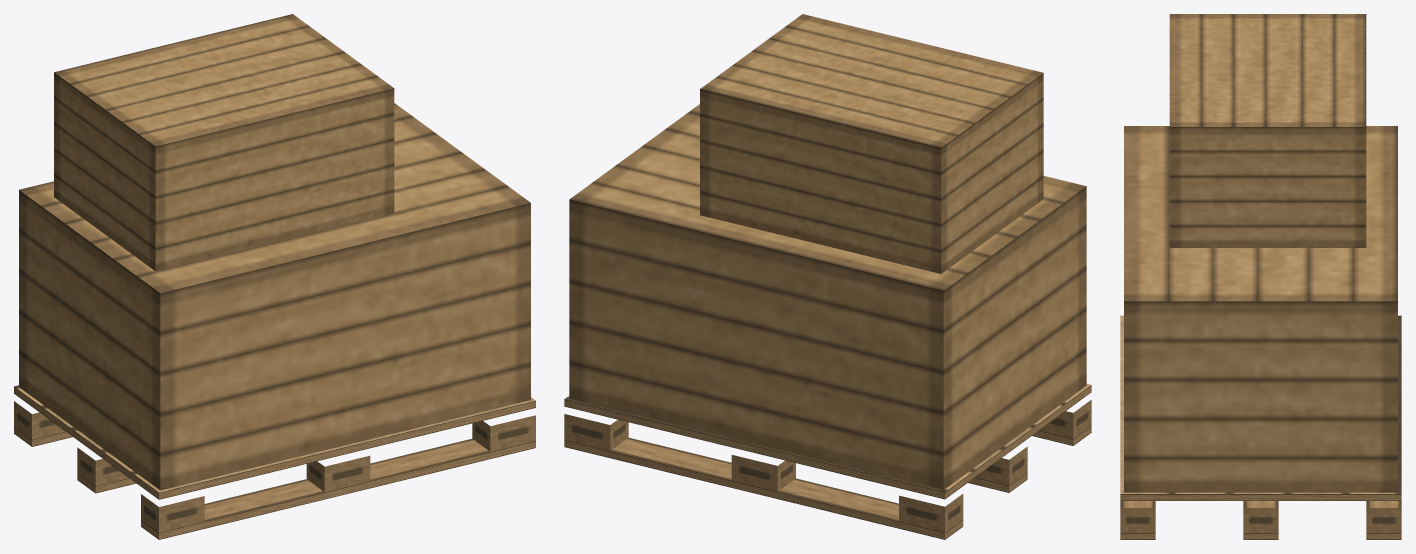
File: paleta_bedny.glb
The picture shows the model from 3 angles, left to right: view 1: azimuth 30°, elevation 25°; view 2: azimuth 150°, elevation 25°; view 3: azimuth 270°, elevation 25°; orthographic projection. The views are drawn at different scales.
Visible parts, largest first — view 1: paleta_bedny; view 2: paleta_bedny; view 3: paleta_bedny.
Part boxes in pixels (left/top/right/bottom): paleta_bedny: left=14, top=14, right=535, bottom=539; paleta_bedny: left=564, top=14, right=1091, bottom=539; paleta_bedny: left=1120, top=14, right=1401, bottom=539.
Size of the model in its own units: 1.2 by 1.12 by 0.8.
Materials: 1 (1 with a texture image).
